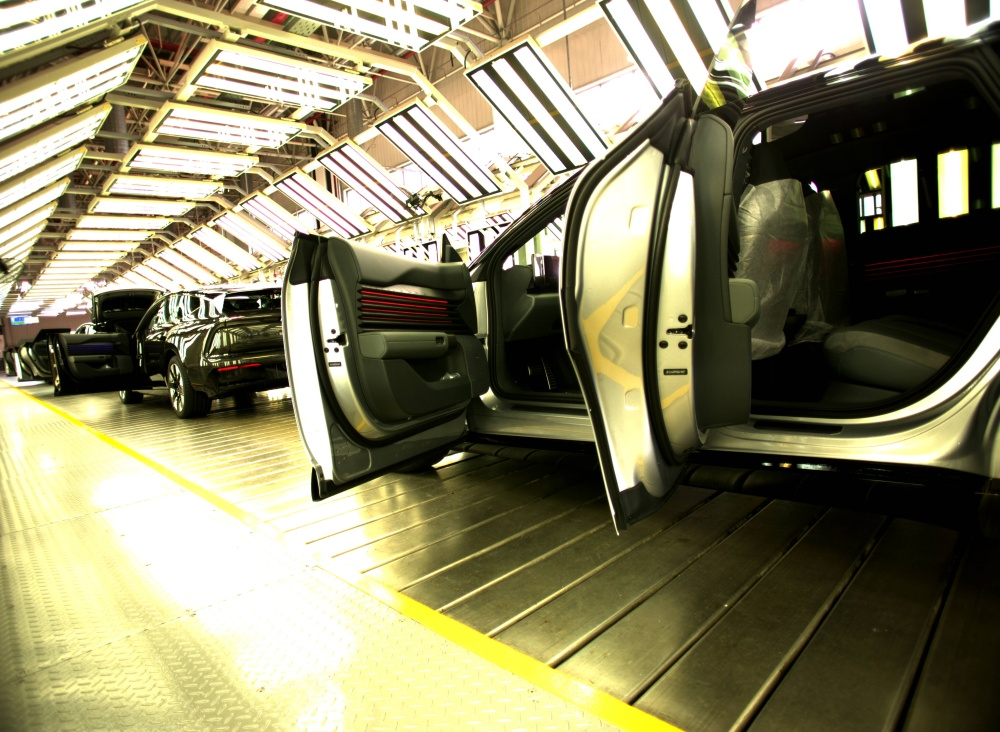armrest_color: (356, 329, 451, 360)
panel_color: (355, 279, 452, 333)
